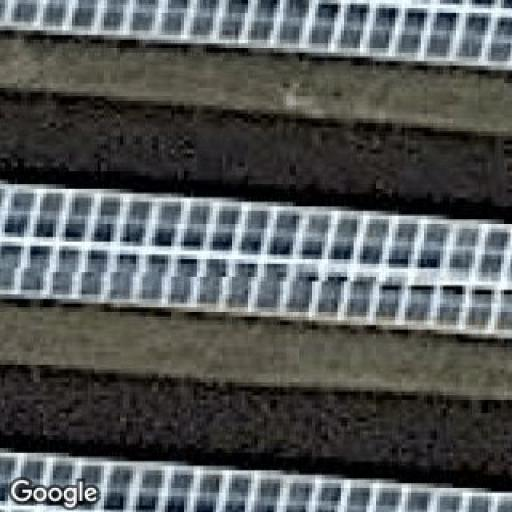solar-panel: (0, 181, 512, 344), (0, 0, 512, 75), (0, 443, 512, 512)
